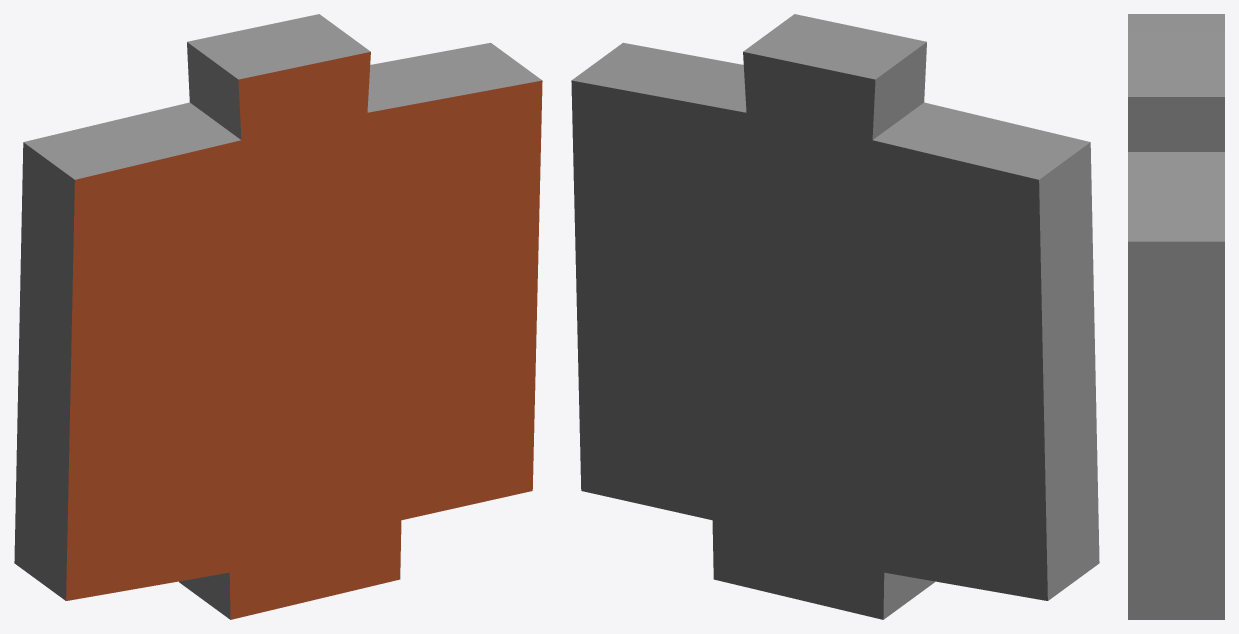
Rendered from construction_1513_assumed_A_Casa_h6m.obj.
The picture shows the model from 3 angles, left to right: view 1: azimuth 30°, elevation 25°; view 2: azimuth 150°, elevation 25°; view 3: azimuth 270°, elevation 25°; orthographic projection. The views are drawn at different scales.
Parts seen in each view (by area): view 1: construction_1513_assumed_A_Casa; view 2: construction_1513_assumed_A_Casa; view 3: construction_1513_assumed_A_Casa.
Boxes of the visible parts, x1,y1,x2,y2 form: construction_1513_assumed_A_Casa: (14, 14, 542, 619); construction_1513_assumed_A_Casa: (571, 14, 1099, 619); construction_1513_assumed_A_Casa: (1128, 14, 1224, 619).
Bounding box in the file's own units: 31.98 × 34.59 × 6.
